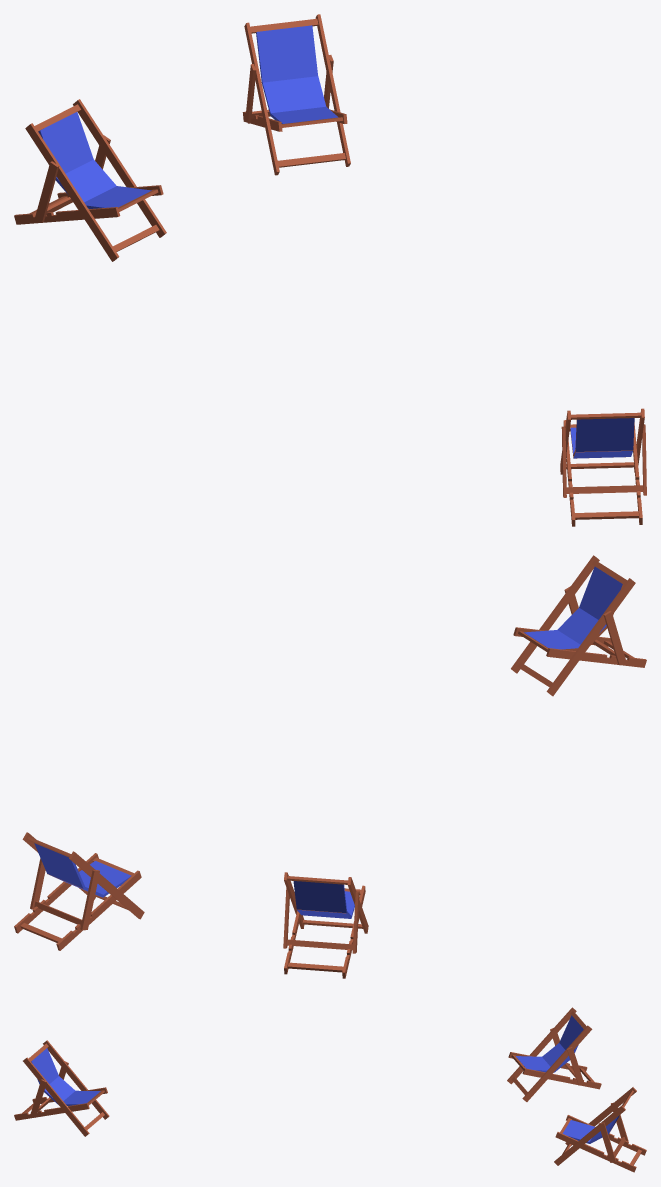
The model's file is Lezhaki.fbx.
The picture shows the model from 3 angles, top to bottom: view 1: azimuth 30°, elevation 25°; view 2: azimuth 150°, elevation 25°; view 3: azimuth 270°, elevation 25°; orthographic projection. The views are drawn at different scales.
Visible parts, largest first — view 1: Chaise longe; view 2: Chaise longe; view 3: Chaise longe.
Boxes of the visible parts, box(x1,y1,x2,y2) form: Chaise longe: box(14, 14, 646, 526); Chaise longe: box(14, 555, 646, 978); Chaise longe: box(14, 1007, 646, 1172).
Size of the model in its own units: 69.42 by 21.46 by 184.
